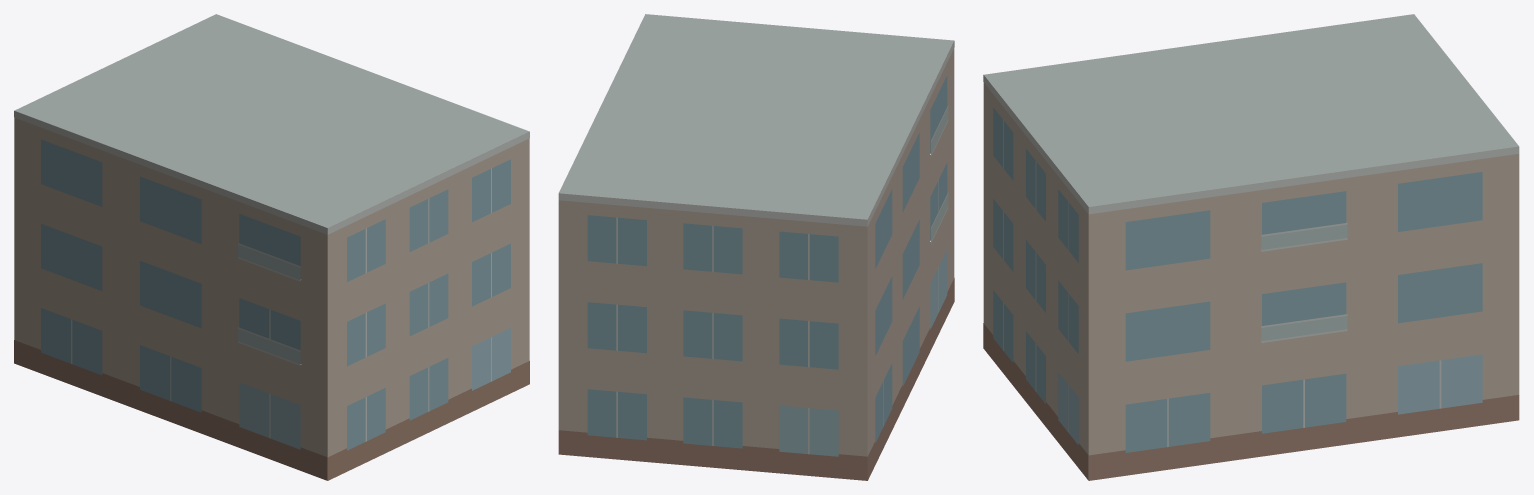
File: survey-upis-32722075.glb
The picture shows the model from 3 angles, left to right: view 1: azimuth 30°, elevation 25°; view 2: azimuth 150°, elevation 25°; view 3: azimuth 270°, elevation 25°; orthographic projection. The views are drawn at different scales.
Parts seen in each view (by area): view 1: survey-upis-32722075.tmp; view 2: survey-upis-32722075.tmp; view 3: survey-upis-32722075.tmp.
Boxes of the visible parts, box(x1,y1,x2,y2) form: survey-upis-32722075.tmp: box(14, 14, 529, 480); survey-upis-32722075.tmp: box(558, 14, 954, 480); survey-upis-32722075.tmp: box(983, 14, 1519, 480).
Size of the model in its own units: 13.85 by 9.15 by 16.24.
